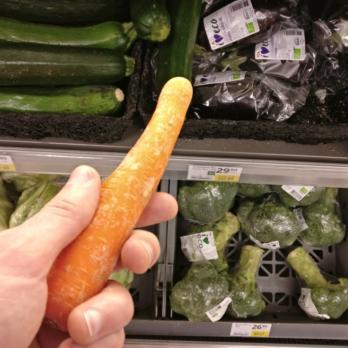Carrot: (33, 74, 194, 333)
